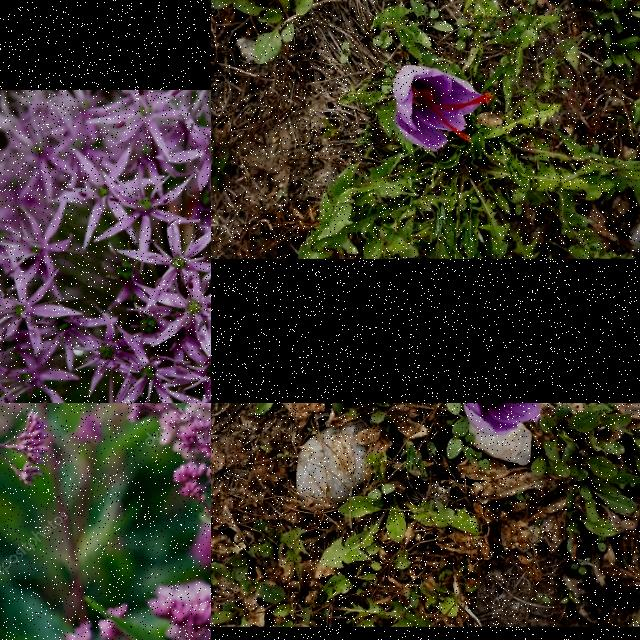flower: (393, 64, 495, 152), (459, 403, 569, 437)
